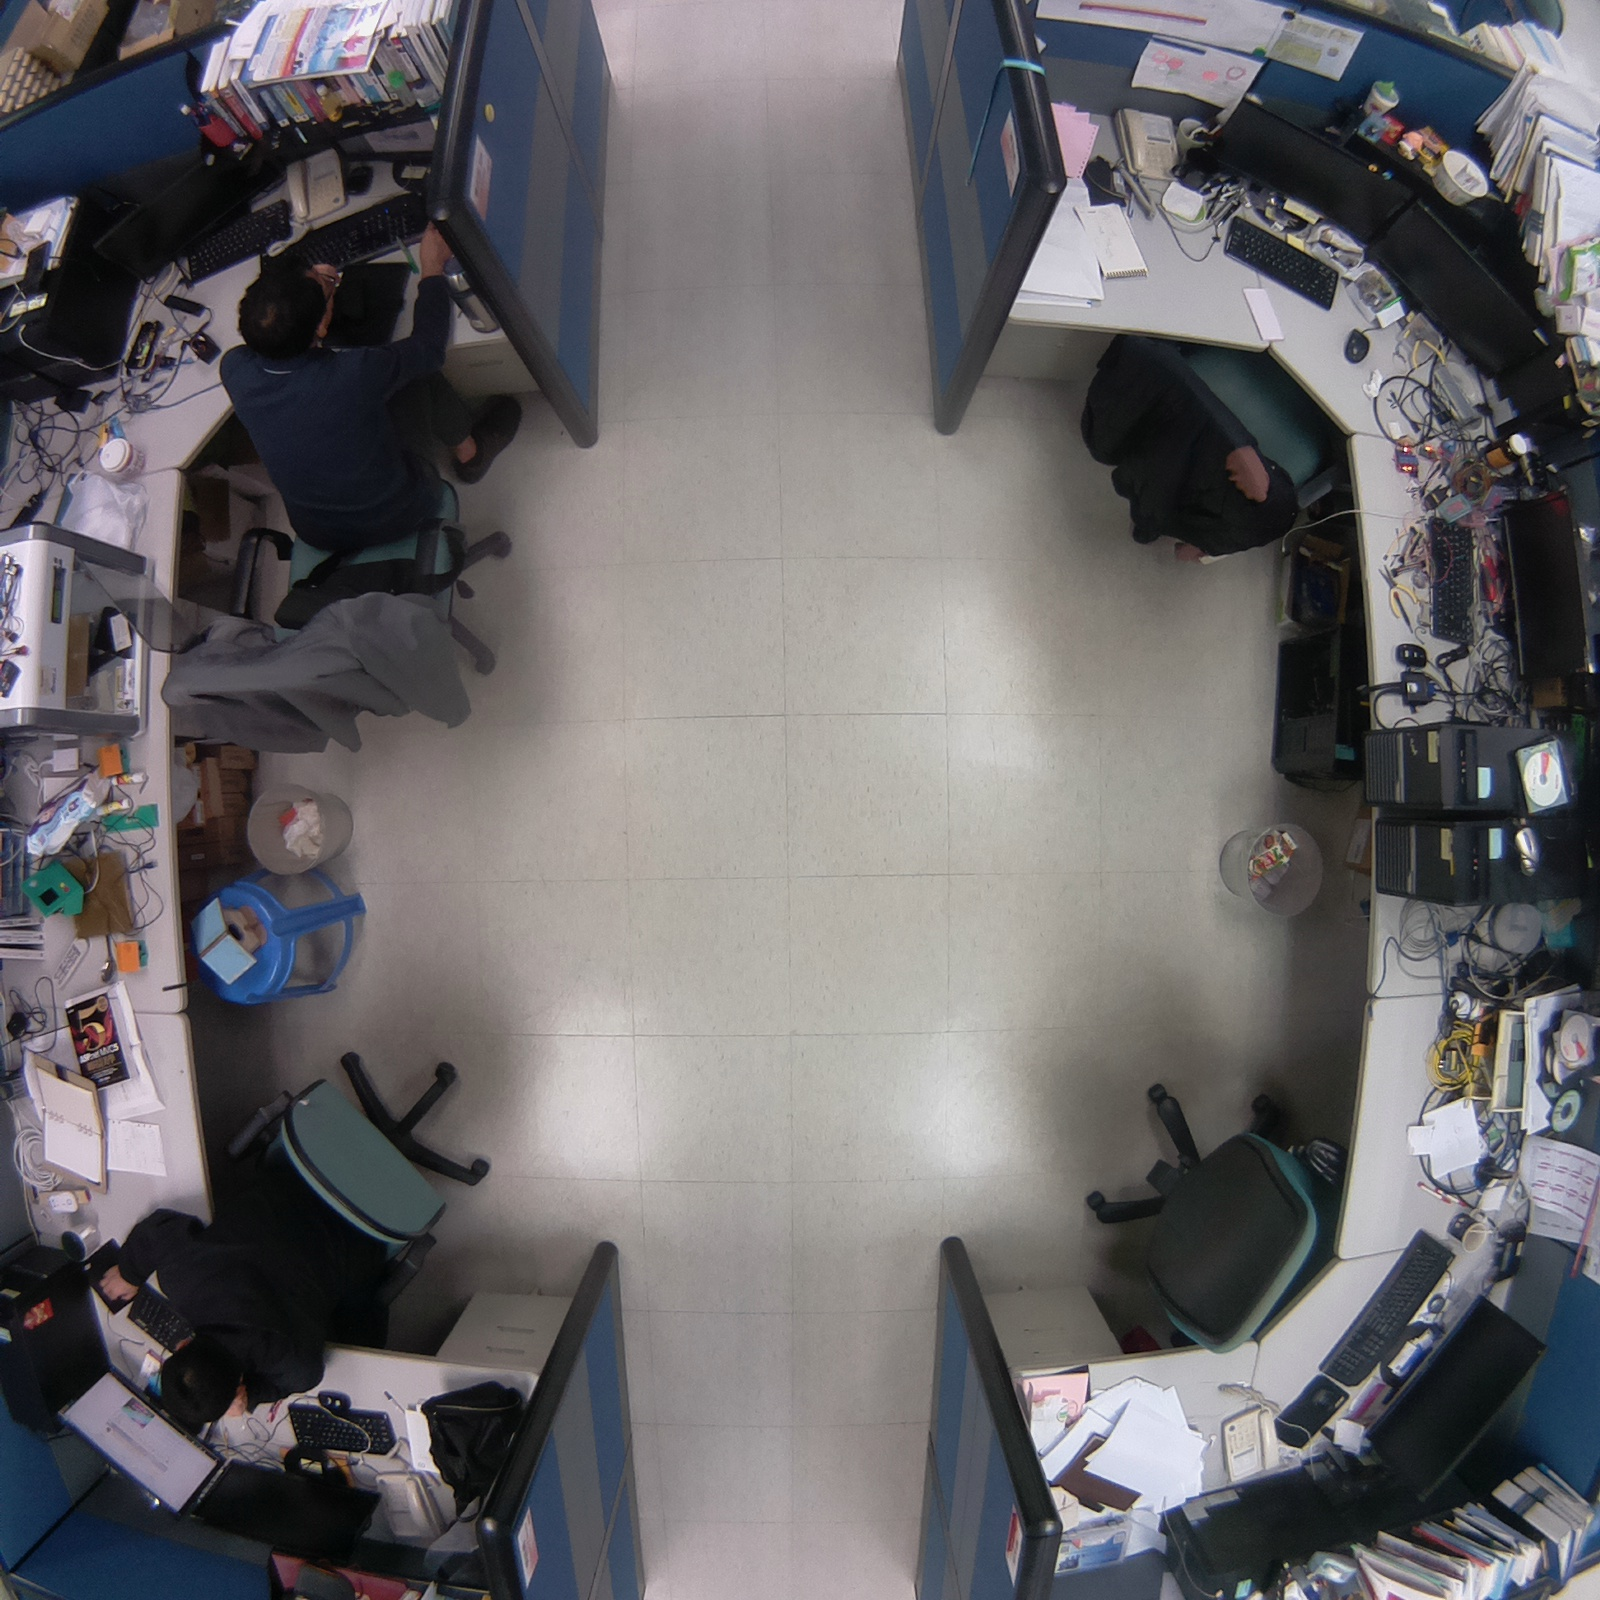chair: (1068, 1060, 1358, 1370), (1076, 324, 1358, 573)
head: (223, 263, 349, 359), (149, 1334, 249, 1436)
sitting: (150, 211, 537, 783), (91, 1029, 506, 1442)
